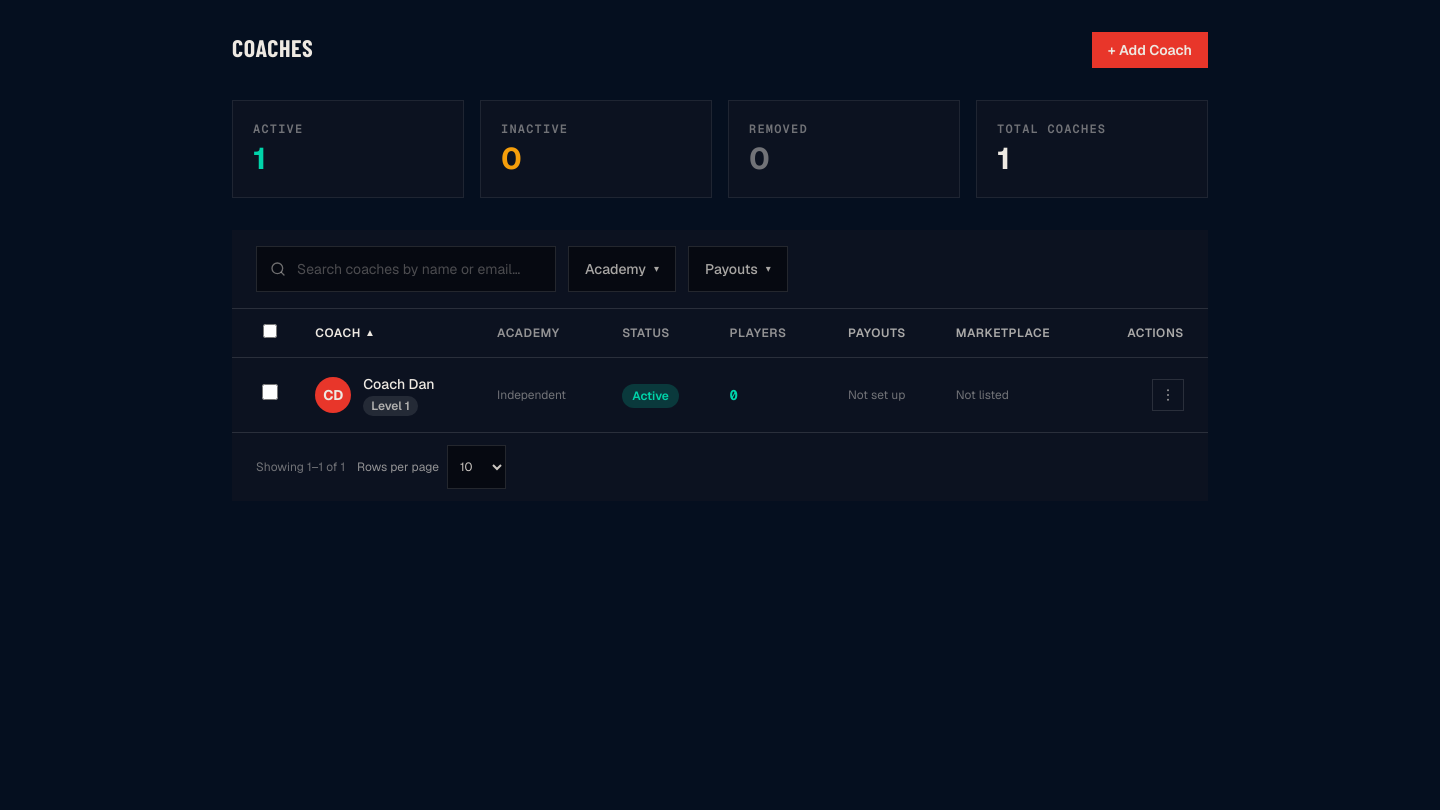
Scenario: CoachesClient › reaches the removal-confirm prompt directly from the row's ⋮ menu, without opening the Edit form
The image size is (1440, 810).
Expected: the text "Coach Dan" is shown, [363,374,435,394]
Click the button named "More actions". click: {"x": 1168, "y": 395}
box: [1152,379,1184,411]
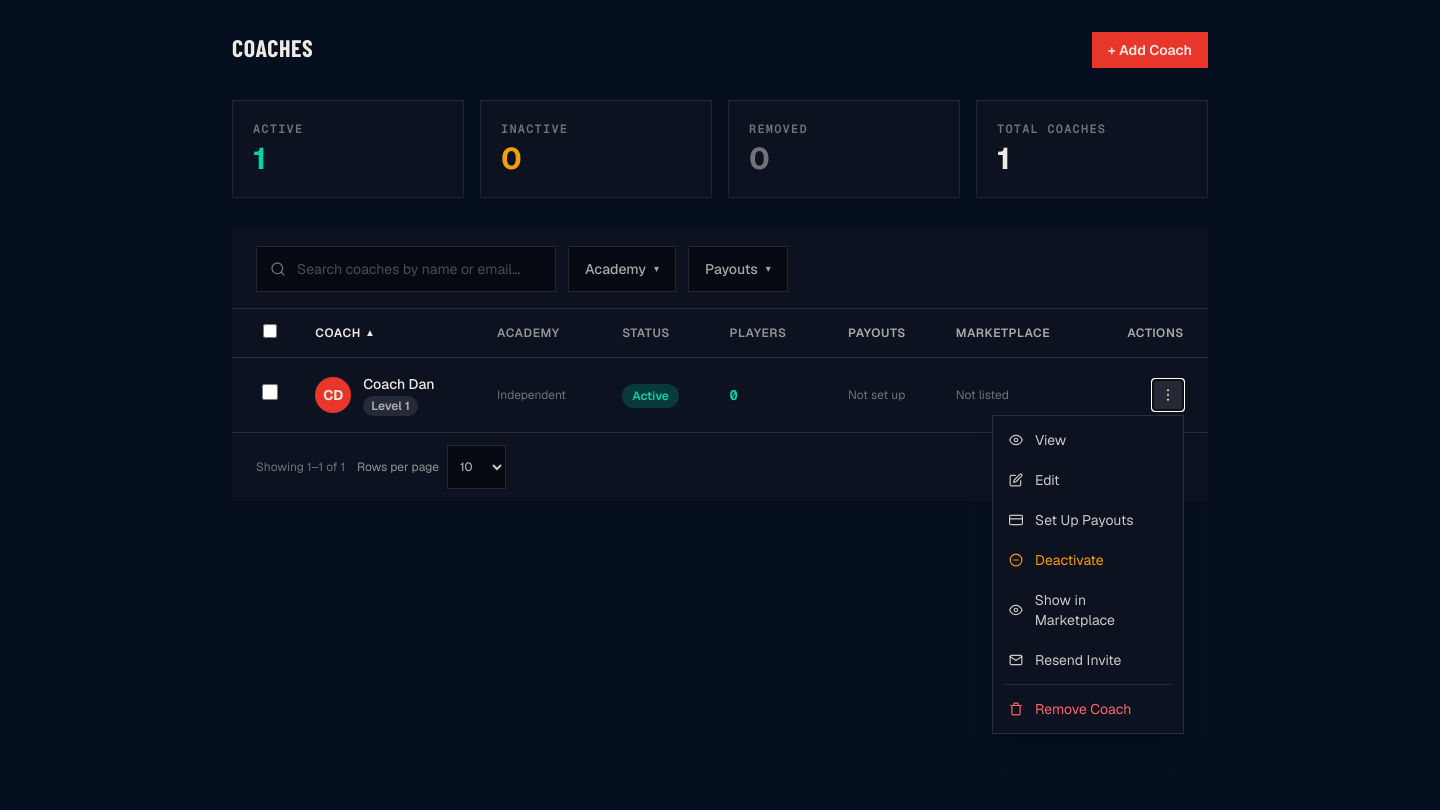
Click the button "Remove Coach". click: {"x": 1088, "y": 709}
box: [993,689,1183,729]
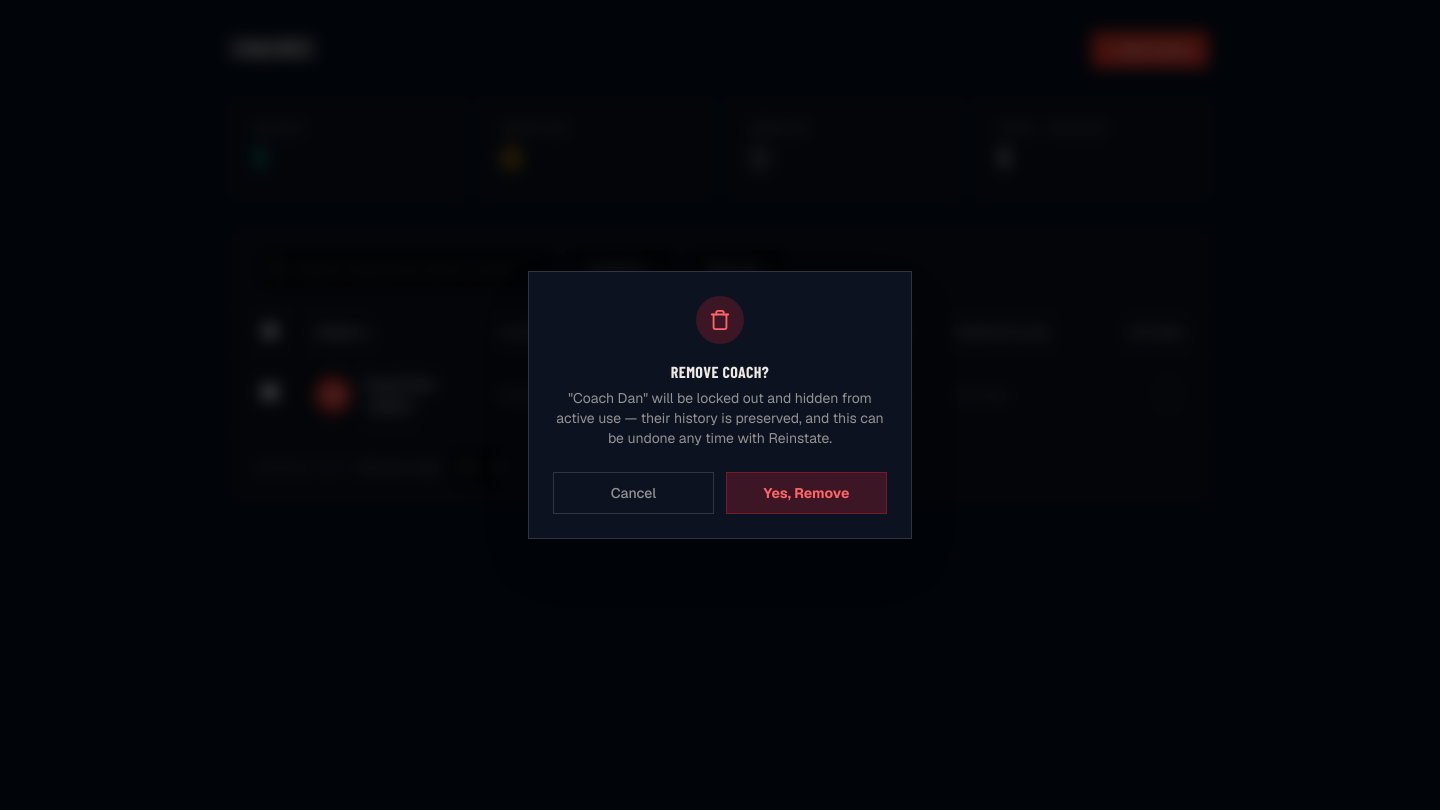
Expected: the heading "Remove Coach?" is shown, [671,362,769,381]
Expected: the button "Yes, Remove" is shown, [726,472,887,514]
